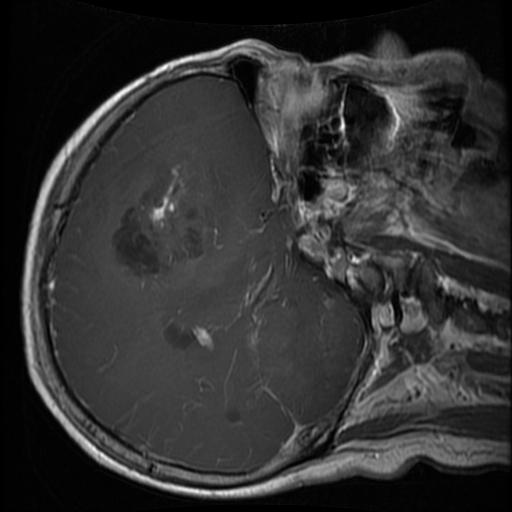glioma: (111, 157, 205, 283)
